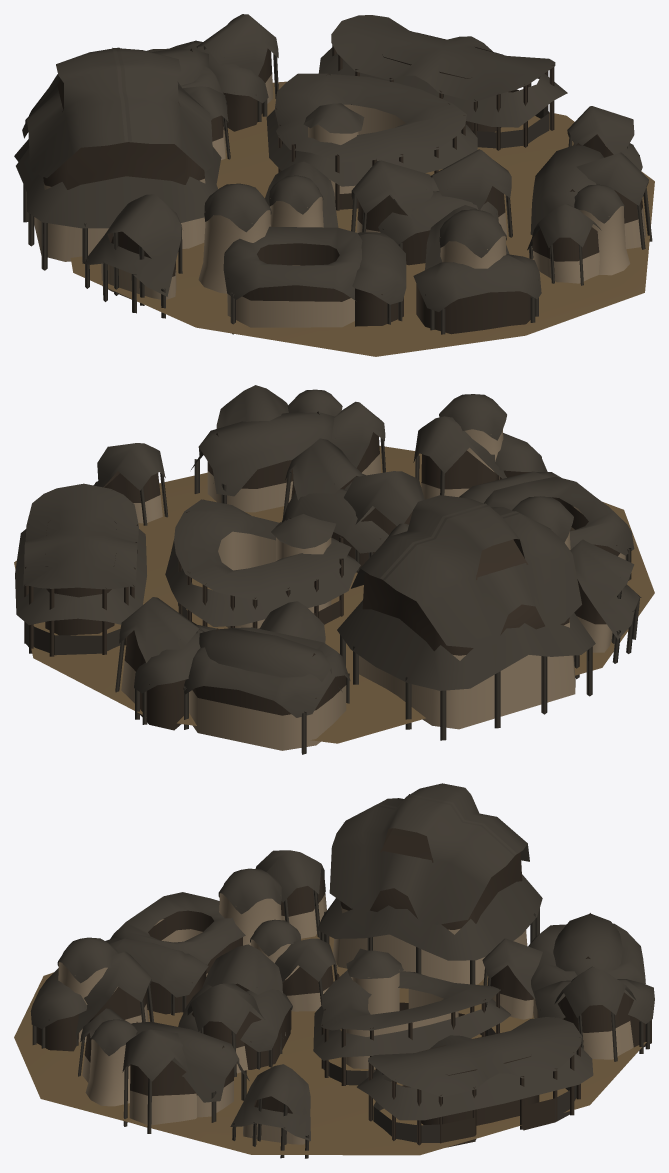
Rendered from workers_hut.glb.
The picture shows the model from 3 angles, top to bottom: view 1: azimuth 30°, elevation 25°; view 2: azimuth 150°, elevation 25°; view 3: azimuth 270°, elevation 25°; orthographic projection. The views are drawn at different scales.
Visible parts, largest first — view 1: store-square.012, Worker_Residence_Ground, triangular-market.007, roofed-market.014, house-3.003, house-5.001, house-2.002, house-4.001, house-2.005, house-5.012, house-2.008, house-2.007 (+14 smaller); view 2: store-square.012, roofed-market.014, triangular-market.007, Worker_Residence_Ground, house-3.001, house-1.034, house-2.002, house-2.001, house-3.003, house-1.001, house-2.009, house-5.004 (+12 smaller); view 3: store-square.012, roofed-market.014, Worker_Residence_Ground, triangular-market.007, house-2.010, house-3.003, house-2.009, house-2.006, house-1.034, house-5.012, house-2.002, house-2.001 (+14 smaller).
Part boxes in pixels (x1=…): store-square.012: x1=14, y1=47, x2=221, y2=270; Worker_Residence_Ground: x1=70, y1=81, x2=654, y2=356; triangular-market.007: x1=266, y1=73, x2=477, y2=210; roofed-market.014: x1=318, y1=15, x2=567, y2=150; house-3.003: x1=223, y1=226, x2=362, y2=334; house-5.001: x1=413, y1=254, x2=541, y2=334; house-2.002: x1=82, y1=194, x2=182, y2=318; house-4.001: x1=198, y1=183, x2=271, y2=293; house-2.005: x1=527, y1=204, x2=601, y2=285; house-5.012: x1=352, y1=232, x2=406, y2=326; house-2.008: x1=351, y1=160, x2=433, y2=232; house-2.007: x1=430, y1=149, x2=512, y2=237; store-square.012: x1=337, y1=495, x2=595, y2=740; roofed-market.014: x1=15, y1=483, x2=146, y2=656; triangular-market.007: x1=165, y1=499, x2=360, y2=628; Worker_Residence_Ground: x1=14, y1=446, x2=654, y2=743; house-3.001: x1=183, y1=627, x2=350, y2=754; house-1.034: x1=191, y1=411, x2=335, y2=512; house-2.002: x1=570, y1=539, x2=641, y2=663; house-2.001: x1=413, y1=416, x2=506, y2=499; house-3.003: x1=484, y1=476, x2=634, y2=580; house-1.001: x1=199, y1=628, x2=342, y2=691; house-2.009: x1=115, y1=597, x2=204, y2=703; house-5.004: x1=134, y1=625, x2=219, y2=730; store-square.012: x1=317, y1=783, x2=542, y2=984; roofed-market.014: x1=357, y1=1017, x2=593, y2=1147; Worker_Residence_Ground: x1=14, y1=934, x2=646, y2=1155; triangular-market.007: x1=313, y1=948, x2=510, y2=1085; house-2.010: x1=122, y1=1029, x2=196, y2=1133; house-3.003: x1=110, y1=892, x2=245, y2=976; house-2.009: x1=554, y1=966, x2=635, y2=1061; house-2.006: x1=230, y1=1064, x2=310, y2=1158; house-1.034: x1=122, y1=1022, x2=249, y2=1122; house-5.012: x1=105, y1=938, x2=208, y2=1015; house-2.002: x1=255, y1=850, x2=326, y2=938; house-2.001: x1=75, y1=951, x2=153, y2=1045.
Bounding box in the file's own units: 1.61 × 0.4839 × 1.74.
